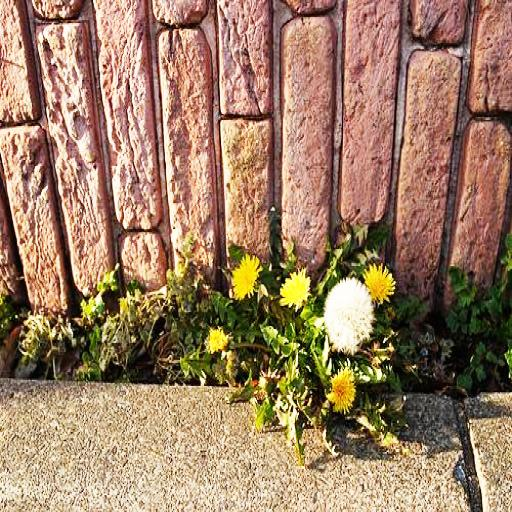dandelion: (324, 275, 374, 355), (325, 368, 356, 410), (231, 255, 261, 297), (280, 272, 314, 306), (365, 263, 394, 301)
